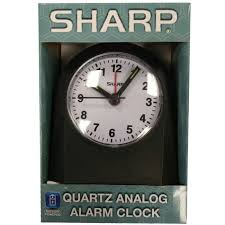alarm_clock: (36, 1, 193, 221), (43, 43, 193, 221), (46, 43, 178, 182), (50, 43, 178, 182), (50, 43, 168, 182), (43, 43, 168, 146), (50, 43, 168, 146)
